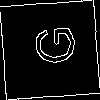G: (25, 25, 76, 67)
